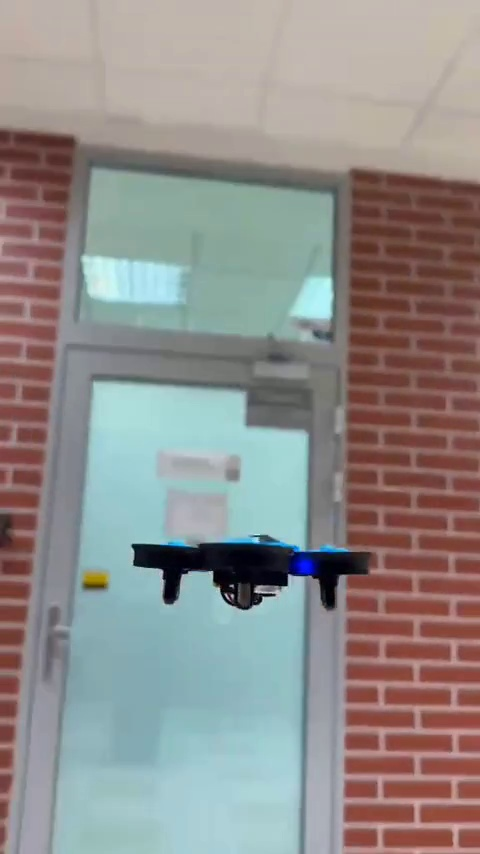drone: (131, 533, 373, 614)
